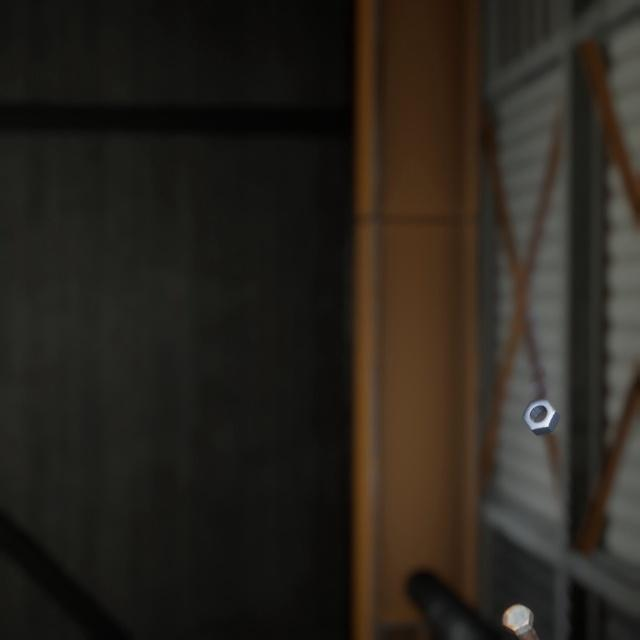bolt: (498, 574, 557, 640)
nut: (517, 374, 564, 419)
